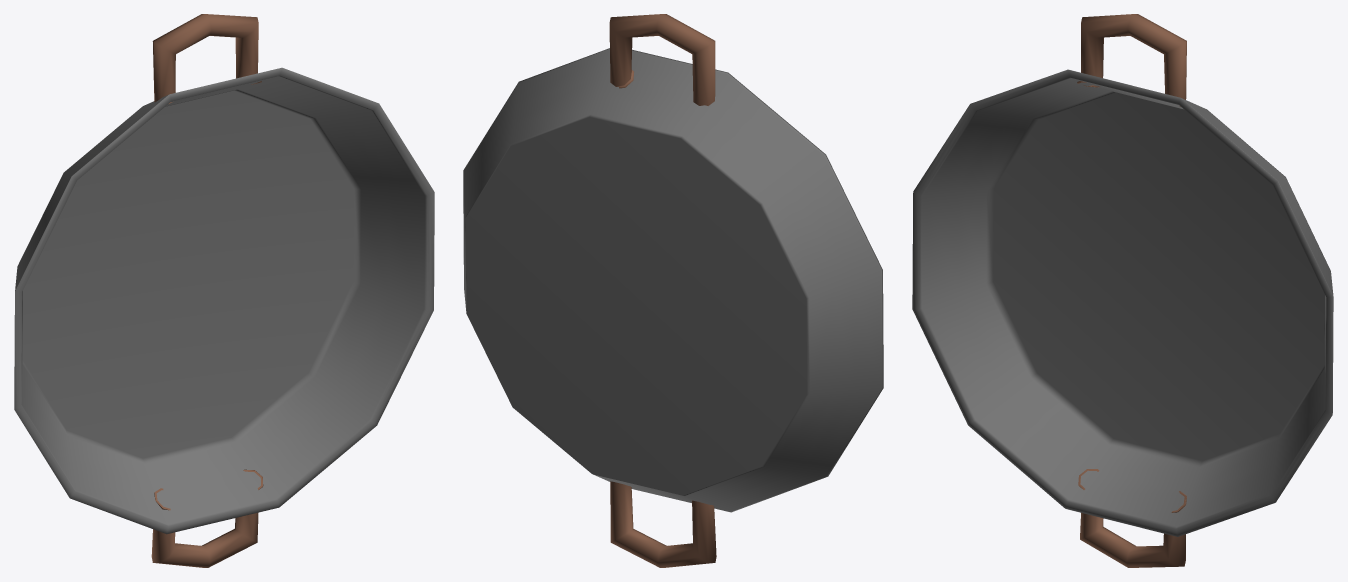
File: Kitchen_set_Kitchen_set_Kitchen_set_Props_grp_Kitchen_set_North_grp_Kitchen_set_NorthWall_grp_Kitchen_set_CastIron_1.obj
The picture shows the model from 3 angles, left to right: view 1: azimuth 30°, elevation 25°; view 2: azimuth 150°, elevation 25°; view 3: azimuth 330°, elevation 25°; orthographic projection.
Visible parts, largest first — view 1: Kitchen_set_pCylinder563 NCCA_Export, NCCA_Export Kitchen_set_pTorus342, NCCA_Export Kitchen_set_pTorus343; view 2: Kitchen_set_pCylinder563 NCCA_Export, NCCA_Export Kitchen_set_pTorus342, NCCA_Export Kitchen_set_pTorus343; view 3: Kitchen_set_pCylinder563 NCCA_Export, NCCA_Export Kitchen_set_pTorus342, NCCA_Export Kitchen_set_pTorus343.
Part boxes in pixels (<box>): Kitchen_set_pCylinder563 NCCA_Export: <box>14,67,434,534</box>; NCCA_Export Kitchen_set_pTorus342: <box>152,14,261,103</box>; NCCA_Export Kitchen_set_pTorus343: <box>151,469,263,567</box>; Kitchen_set_pCylinder563 NCCA_Export: <box>463,48,883,512</box>; NCCA_Export Kitchen_set_pTorus342: <box>609,14,715,105</box>; NCCA_Export Kitchen_set_pTorus343: <box>610,481,716,567</box>; Kitchen_set_pCylinder563 NCCA_Export: <box>912,69,1333,536</box>; NCCA_Export Kitchen_set_pTorus342: <box>1077,14,1186,106</box>; NCCA_Export Kitchen_set_pTorus343: <box>1078,469,1186,567</box>.
Size of the model in its own units: 0.795 by 1 by 0.1215.
